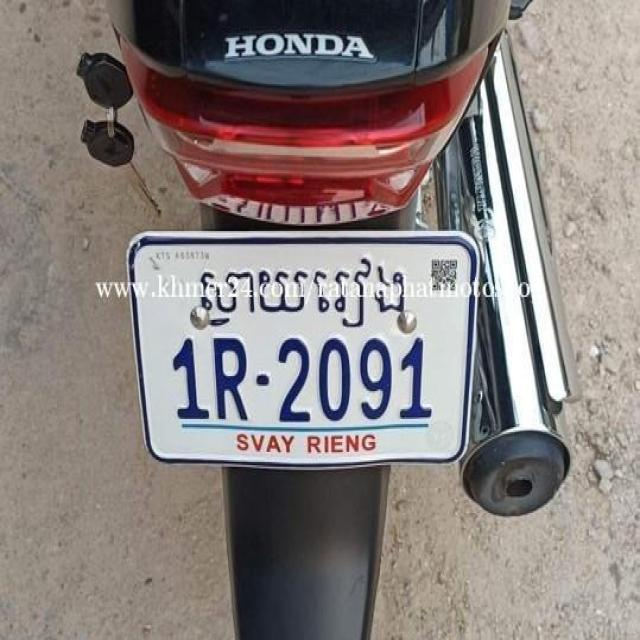Svay_Rieng: (197, 258, 415, 333)
